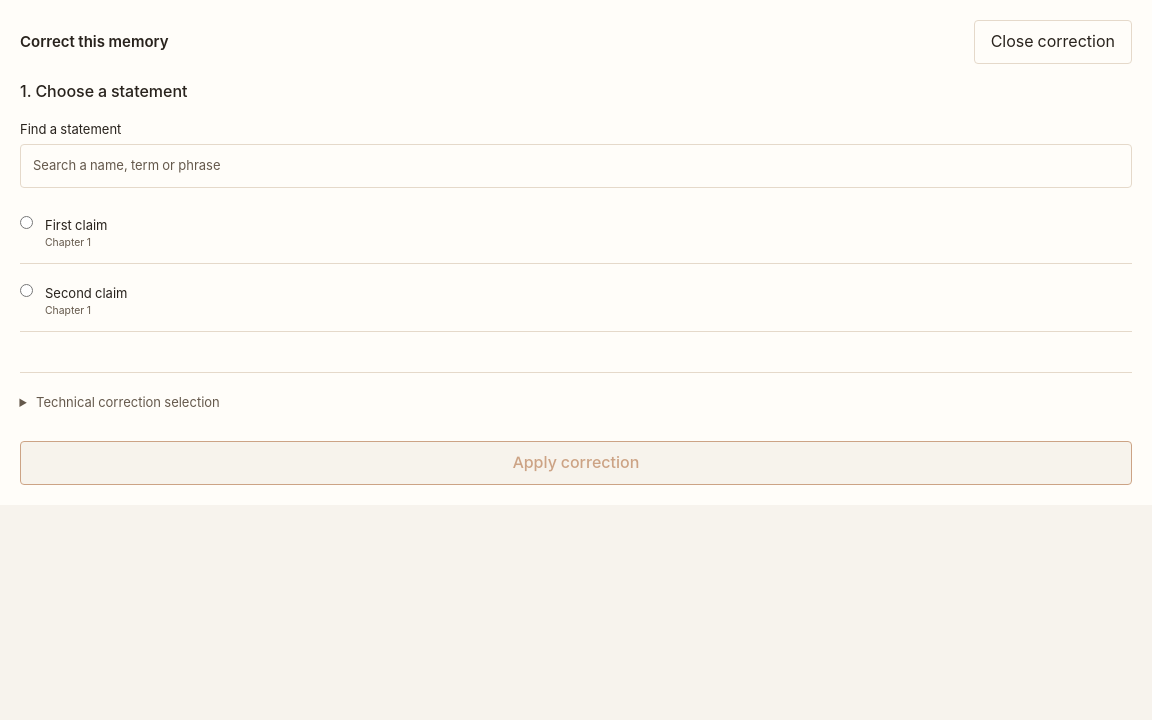
Test case: multiple claims require a deliberate choice and preserve displayed revisions
The image size is (1152, 720).
Expected: the text "First claim" is shown, [45, 216, 108, 234]
Expected: the button "Apply correction" is disabled, [20, 441, 1132, 485]
Click the radio button labelled "Second claim Chapter 1". click: (26, 290)
box: [20, 284, 33, 297]
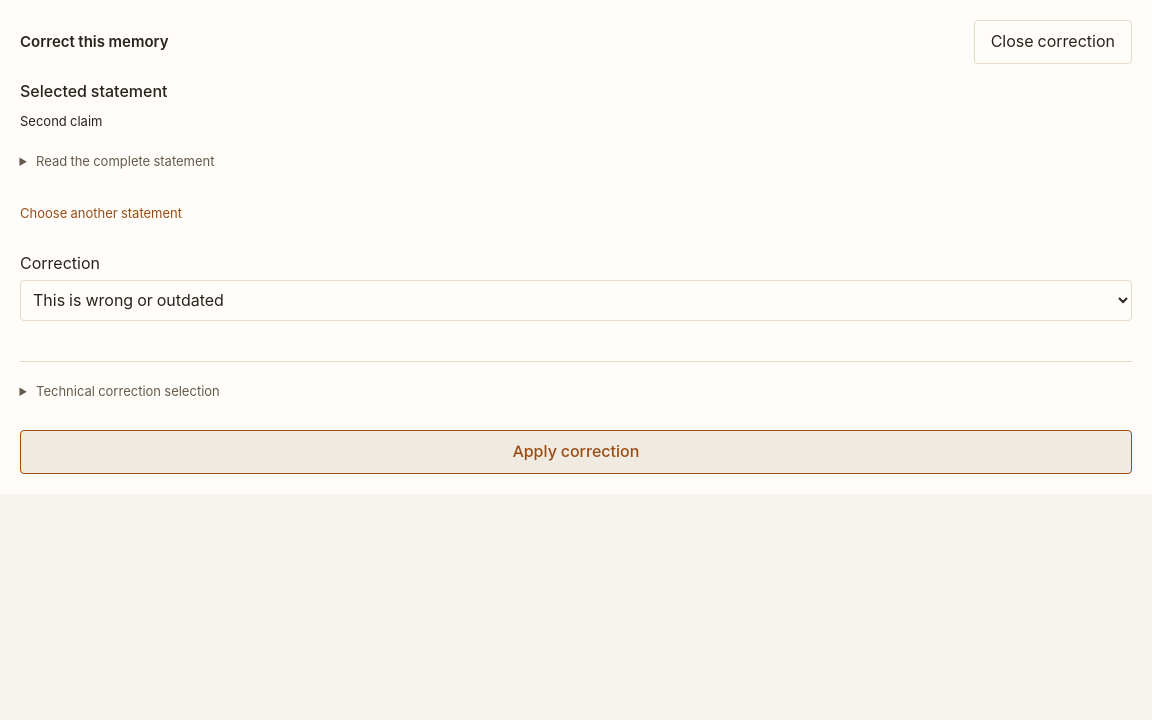
Click the button "Apply correction". click: (576, 452)
box: [20, 430, 1132, 474]
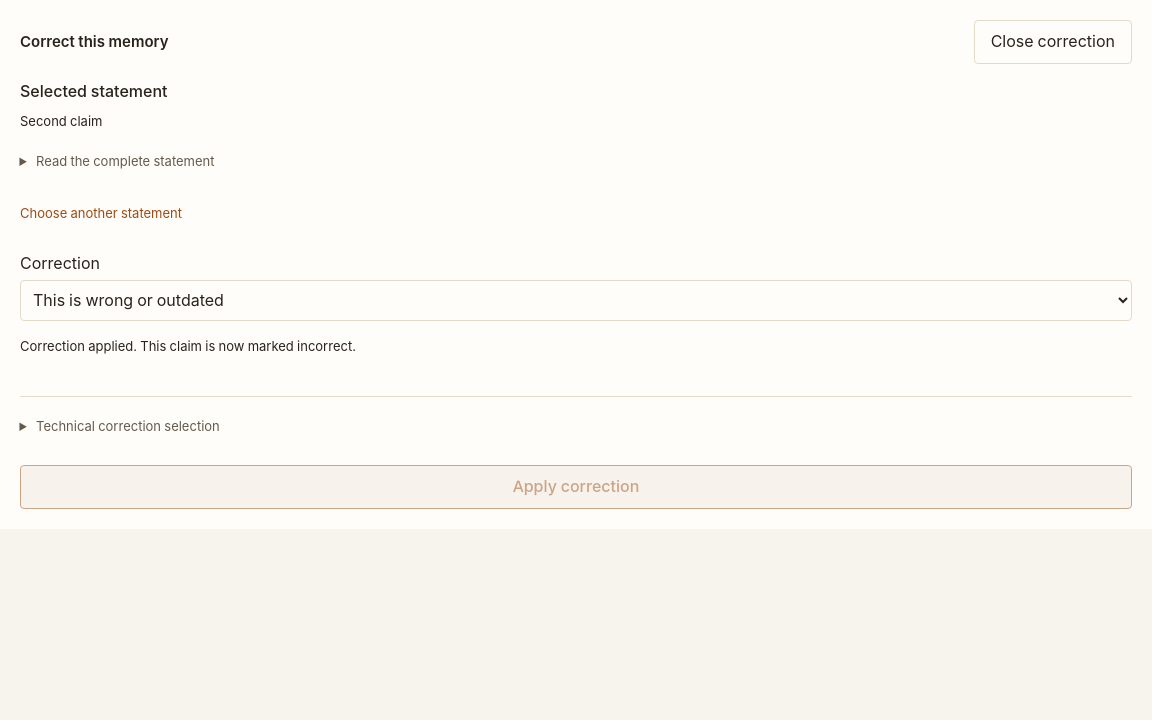
Result: the text "Correction applied. This claim is now marked incorrect." is shown at [20, 338, 356, 354]
